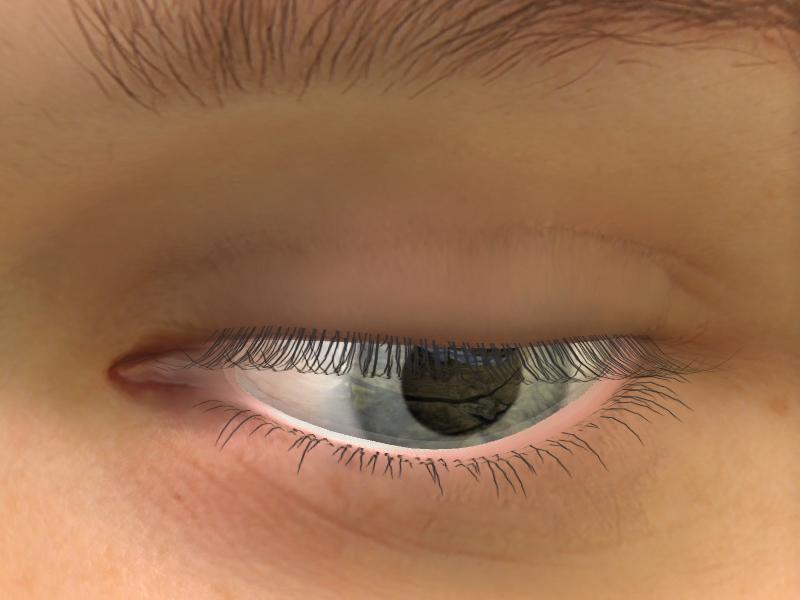eye: (353, 343, 573, 451)
